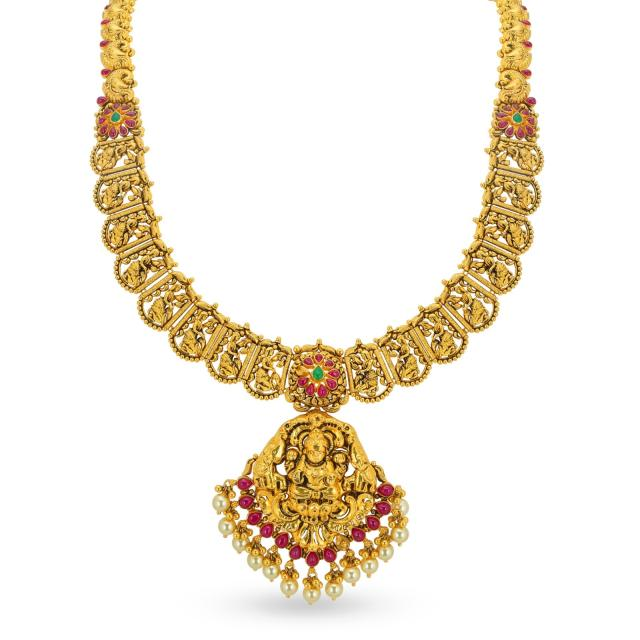missing gem: (336, 536, 349, 549), (297, 366, 310, 375)
